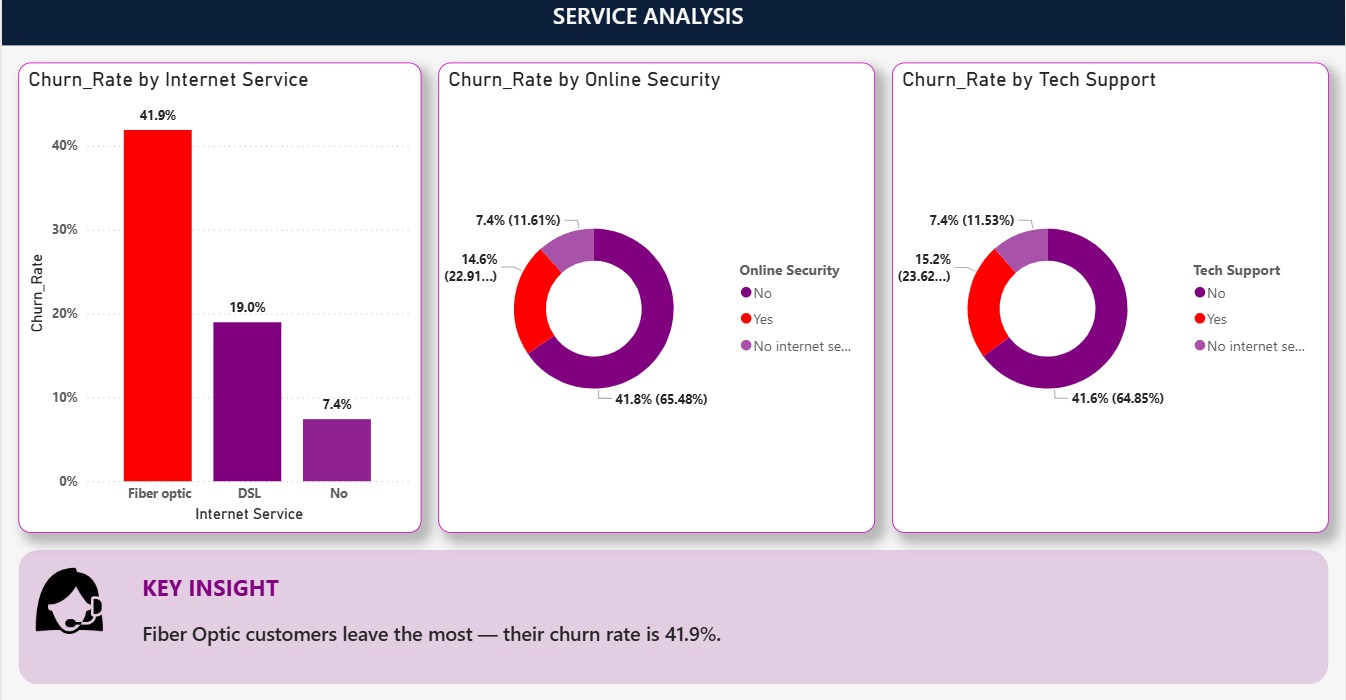

This screenshot's page, from the dashboard's own definition file:
{"tool":"powerbi","page":{"name":"Service Analysis","canvas":[1280,720],"ordinal":3},"visuals":[{"type":"shape","box":[0,0,1280,48],"z":0},{"type":"textbox","box":[448,0,336,48],"z":1000},{"type":"clusteredColumnChart","fields":{"Category":["Telco_Churn.Internet Service"],"Y":["Telco_Churn.Churn_Rate"]},"box":[16,64,384,448],"z":2000},{"type":"donutChart","fields":{"Category":["Telco_Churn.Online Security"],"Y":["Telco_Churn.Churn_Rate"]},"box":[416,64,416,448],"z":3000},{"type":"donutChart","fields":{"Y":["Telco_Churn.Churn_Rate"],"Category":["Telco_Churn.Tech Support"]},"box":[848,64,416,448],"z":4000},{"type":"shape","box":[16,528,1248,128],"z":5000},{"type":"textbox","box":[128,544,1072,128],"z":6000},{"type":"image","box":[32,528,64,96],"z":7000}]}

Visuals, with their boxes on the page's 1280x720 design canvas (x1, y1, x2, y2). These are canvas units, not pixel positions in the 1346x700 screenshot, which may show the page scaled, cropped or inside an application window:
shape: l=0, t=0, r=1280, b=48
textbox: l=448, t=0, r=784, b=48
clusteredColumnChart - Telco_Churn.Internet Service x Telco_Churn.Churn_Rate: l=16, t=64, r=400, b=512
donutChart - Telco_Churn.Online Security x Telco_Churn.Churn_Rate: l=416, t=64, r=832, b=512
donutChart - Telco_Churn.Churn_Rate x Telco_Churn.Tech Support: l=848, t=64, r=1264, b=512
shape: l=16, t=528, r=1264, b=656
textbox: l=128, t=544, r=1200, b=672
image: l=32, t=528, r=96, b=624
